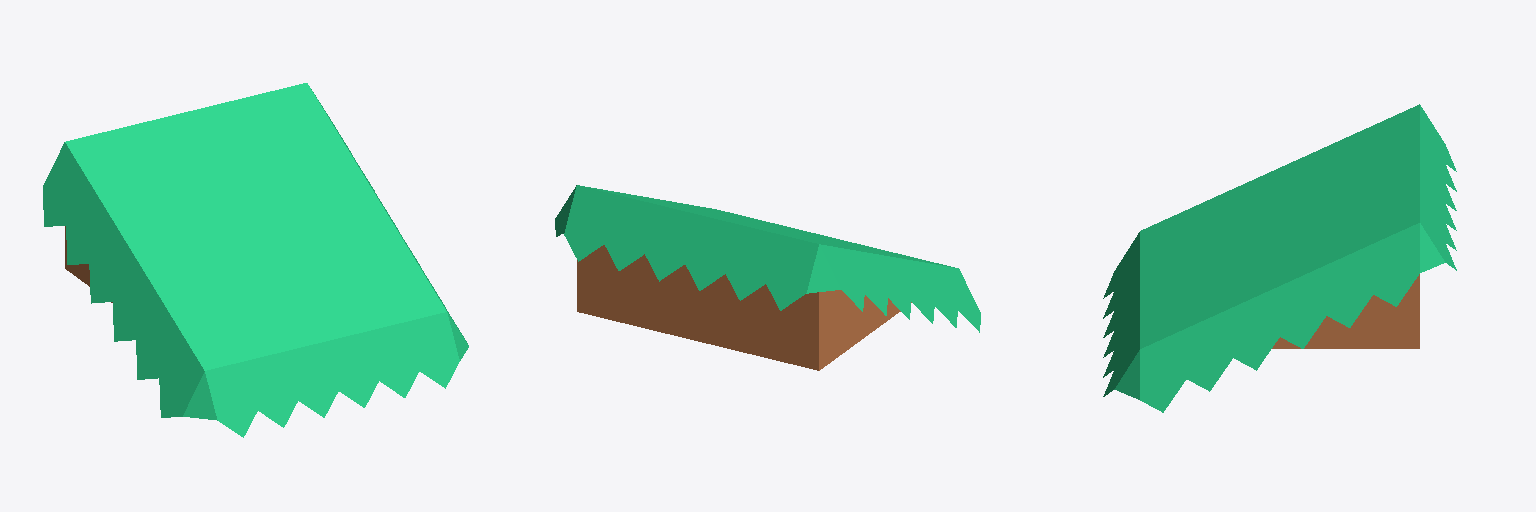
The model's file is blockSlopeHalf.obj.
3 renders of one model, left to right at view 1: azimuth 30°, elevation 25°; view 2: azimuth 150°, elevation 25°; view 3: azimuth 270°, elevation 25°, orthographic.
Parts seen in each view (by area): view 1: blockSlopeHalf; view 2: blockSlopeHalf; view 3: blockSlopeHalf.
Boxes of the visible parts, box(x1,y1,x2,y2) form: blockSlopeHalf: box(43, 83, 468, 437); blockSlopeHalf: box(555, 185, 980, 370); blockSlopeHalf: box(1103, 104, 1456, 412).
Bounding box in the file's own units: 1.27 × 0.7304 × 1.27.